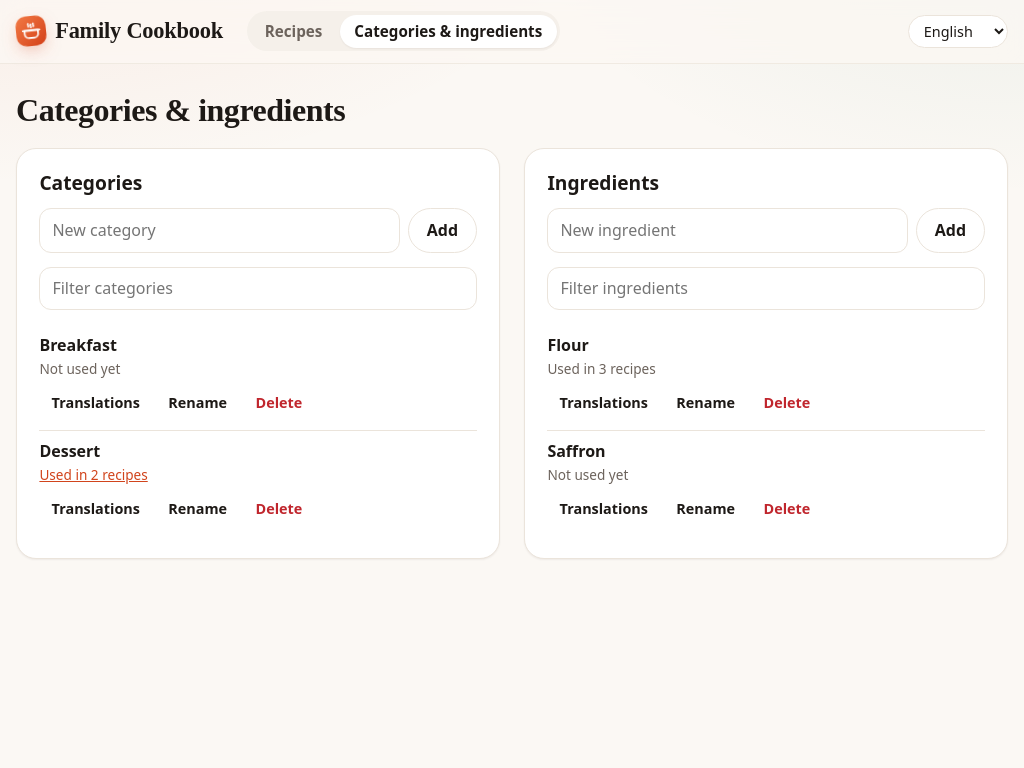
Test: Categories & ingredients page › filters a list
expect the text "Flour" is shown: met, box top-left (547, 334), bottom-right (589, 356)
Type "saf" into the search field labelled "Filter ingredients" at (766, 288), box top-left (547, 267), bottom-right (985, 310)
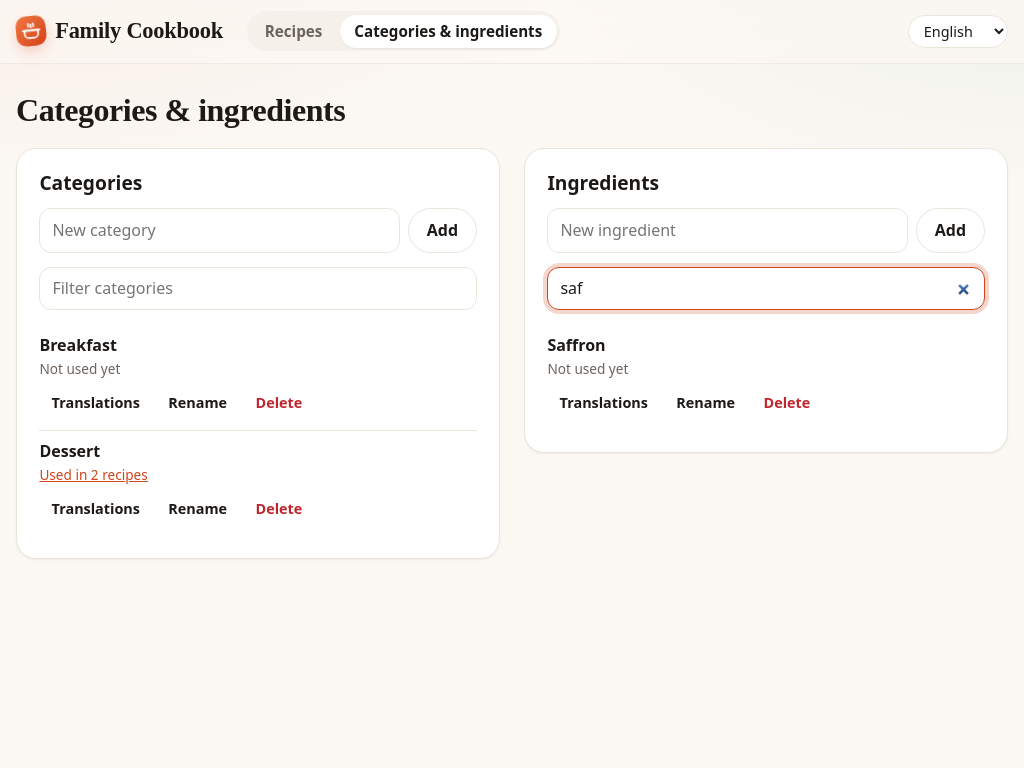
expect the text "Saffron" is shown: met, box top-left (547, 334), bottom-right (606, 356)
expect the text "Flour" is gone: met
Replace the text in the search field named "Filter ingredients" with "xyz" at (766, 288), box top-left (547, 267), bottom-right (985, 310)
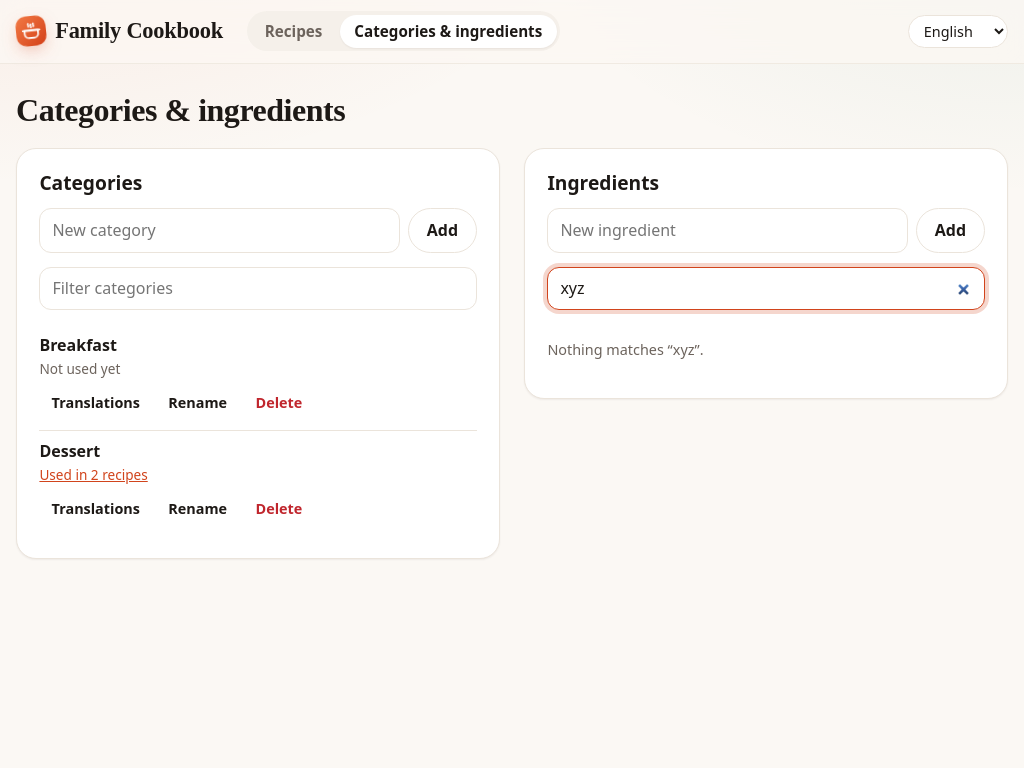
expect the text "Nothing matches “xyz”." is shown: met, box top-left (547, 340), bottom-right (704, 359)
